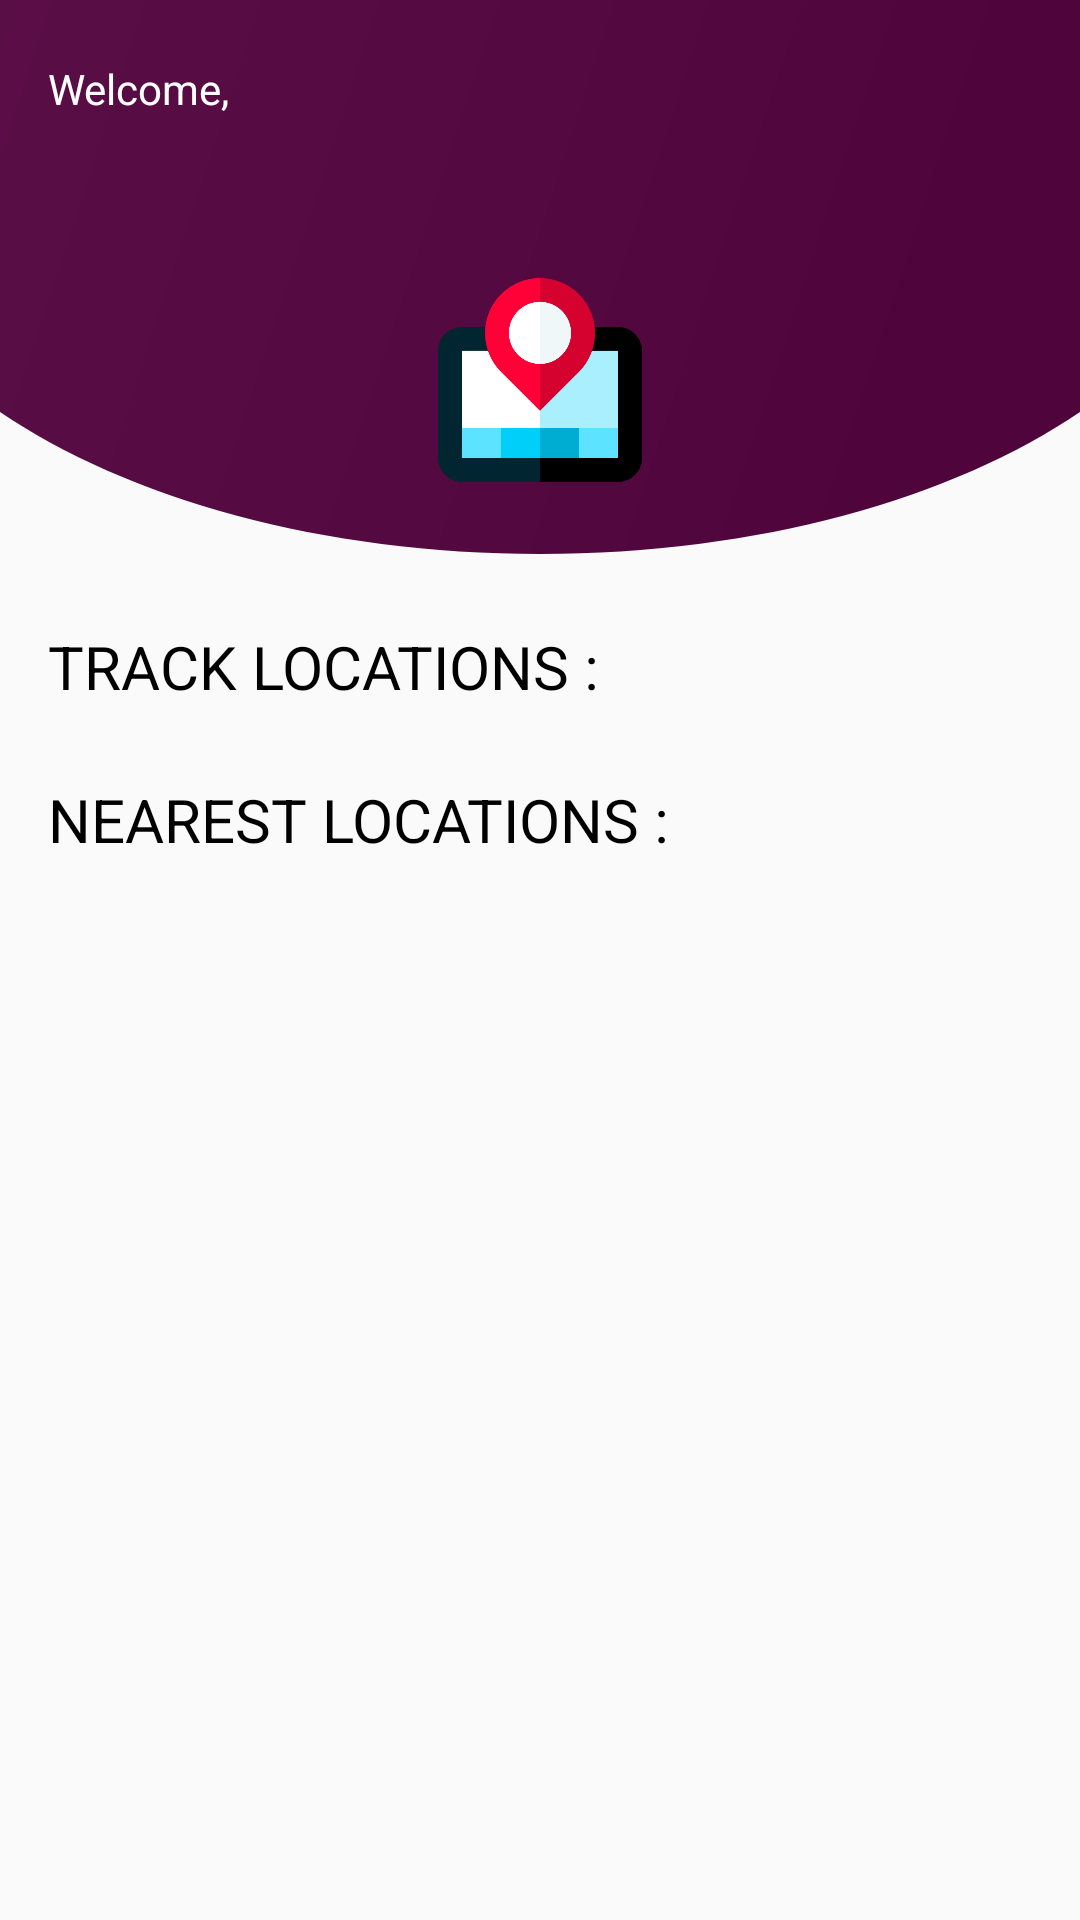

Named icons in this screenshot (1080×1920) and their bounding boxes, rect(x1, y1, x2, y2):
app: rect(438, 278, 642, 482)
